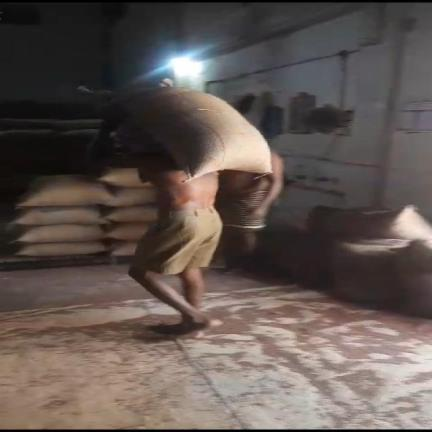Zone-Counting: (91, 87, 271, 333)
